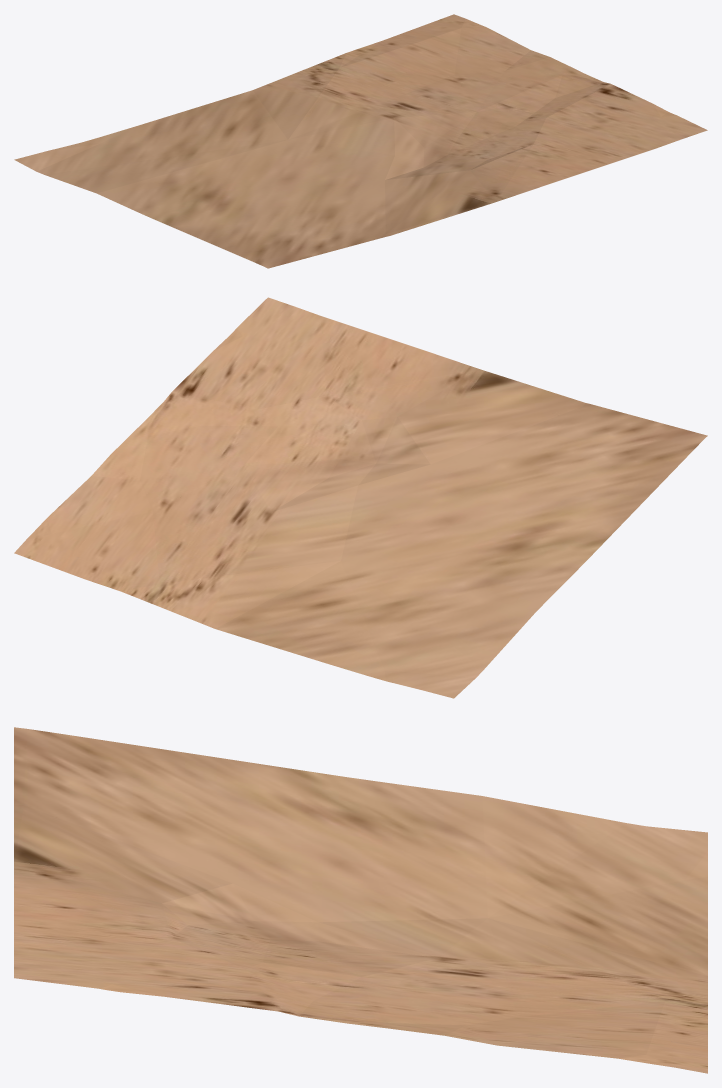
3 views of the same model, one above another, from view 1: azimuth 30°, elevation 25°; view 2: azimuth 150°, elevation 25°; view 3: azimuth 270°, elevation 25° (orthographic). The views are drawn at different scales.
Bounding box in the file's own units: 1.04 × 0.245 × 1.04.
3 materials, 3 textured.
